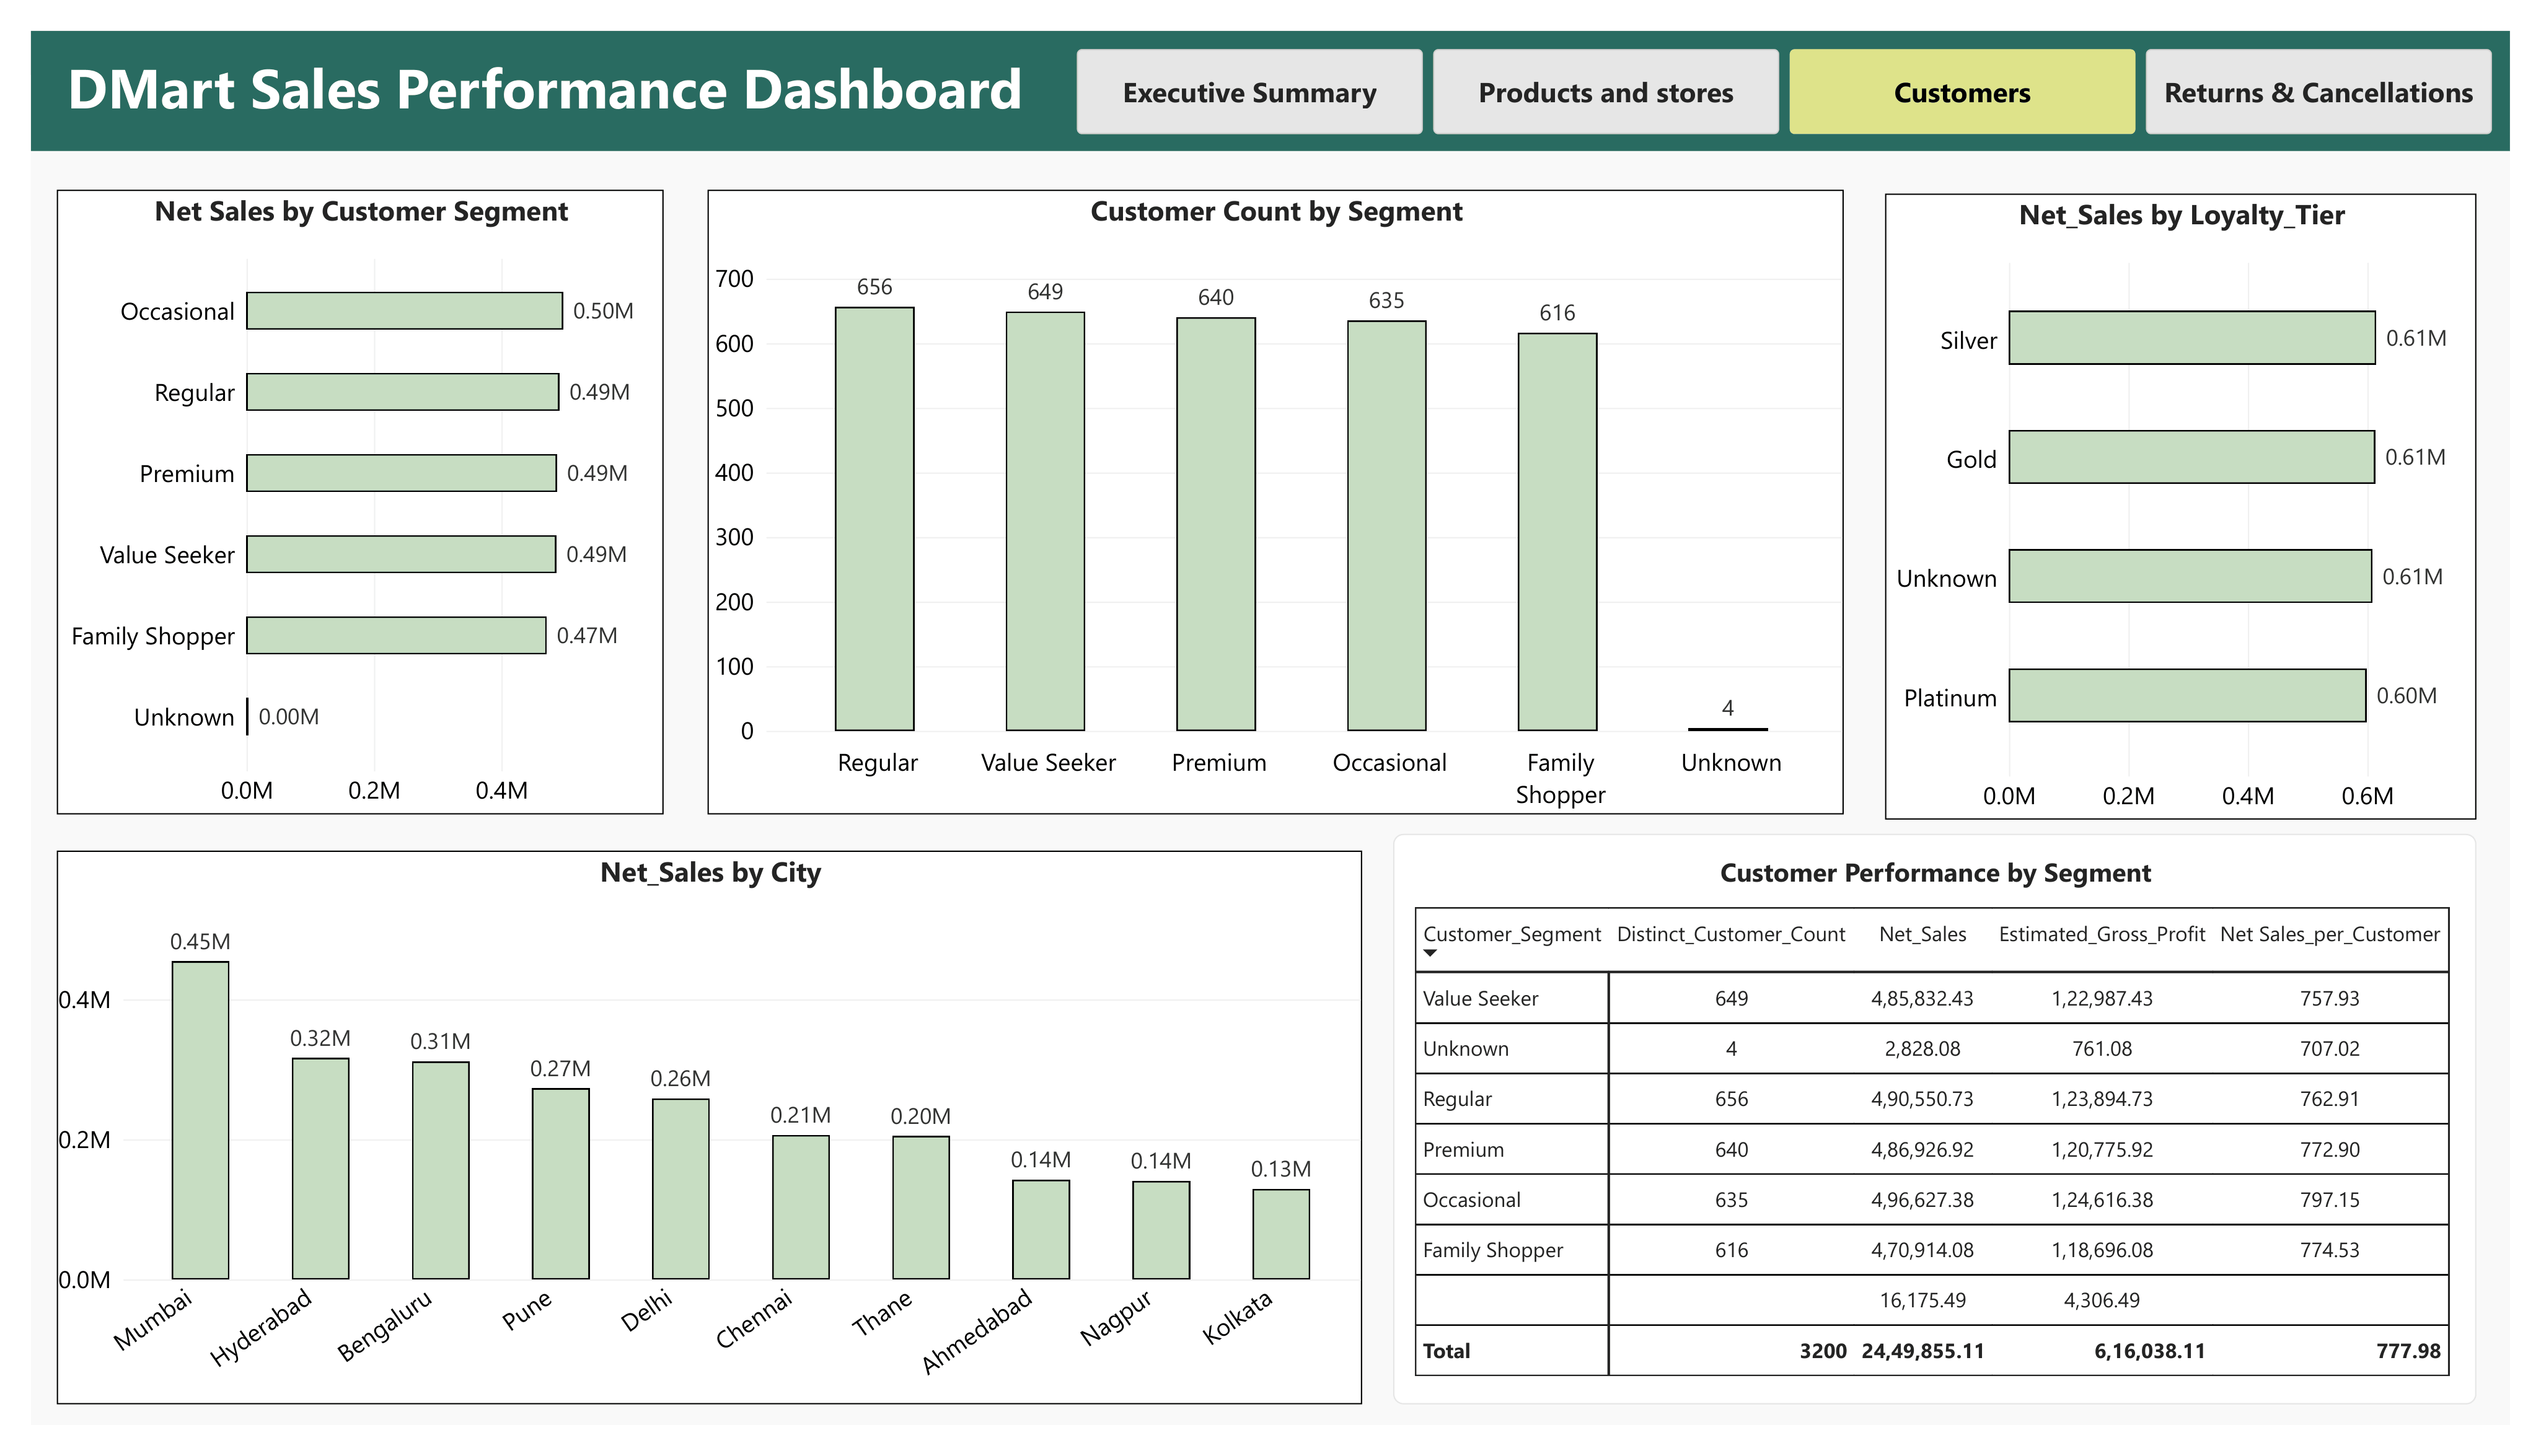

This screenshot's page, from the dashboard's own definition file:
{"tool":"powerbi","page":{"name":"Customers","canvas":[1920,1080],"ordinal":2},"visuals":[{"type":"clusteredBarChart","title":"Net Sales by Customer Segment","fields":{"Category":["customers_clean.Customer_Segment"],"Y":["Measures_Created.Net_Sales"]},"box":[20.4,122.6,469.9,484.7],"z":0},{"type":"barChart","fields":{"Category":["customers_clean.Loyalty_Tier"],"Y":["Measures_Created.Net_Sales"]},"box":[1435.6,126.3,458.7,484.7],"z":1000},{"type":"clusteredColumnChart","fields":{"Category":["customers_clean.City"],"Y":["Measures_Created.Net_Sales"]},"box":[20.4,635.2,1010.3,429],"z":2000},{"type":"shape","box":[0,0,1920.4,92.8],"z":3000},{"type":"clusteredColumnChart","title":"Customer Count by Segment","fields":{"Category":["customers_clean.Customer_Segment"],"Y":["Measures_Created.Distinct_Customer_Count"]},"box":[523.7,122.6,880.3,484.7],"z":6000},{"type":"pivotTable","title":"Customer Performance by Segment","fields":{"Rows":["customers_clean.Customer_Segment"],"Values":["Measures_Created.Distinct_Customer_Count","Measures_Created.Net_Sales","Measures_Created.Estimated_Gross_Profit","Measures_Created.Net Sales_per_Customer"]},"box":[1054.9,622.2,839.5,442],"z":7000},{"type":"pageNavigator","box":[810,14,1096,66],"z":7001},{"type":"textbox","box":[28,14,782,78],"z":7002}]}

Visuals, with their boxes on the page's 1920x1080 design canvas (x1, y1, x2, y2). These are canvas units, not pixel positions in the 2541x1456 screenshot, which may show the page scaled, cropped or inside an application window:
"Net Sales by Customer Segment" clusteredBarChart: box=[20, 123, 490, 607]
barChart - customers_clean.Loyalty_Tier x Measures_Created.Net_Sales: box=[1436, 126, 1894, 611]
clusteredColumnChart - customers_clean.City x Measures_Created.Net_Sales: box=[20, 635, 1031, 1064]
shape: box=[0, 0, 1920, 93]
"Customer Count by Segment" clusteredColumnChart: box=[524, 123, 1404, 607]
"Customer Performance by Segment" pivotTable: box=[1055, 622, 1894, 1064]
pageNavigator: box=[810, 14, 1906, 80]
textbox: box=[28, 14, 810, 92]
